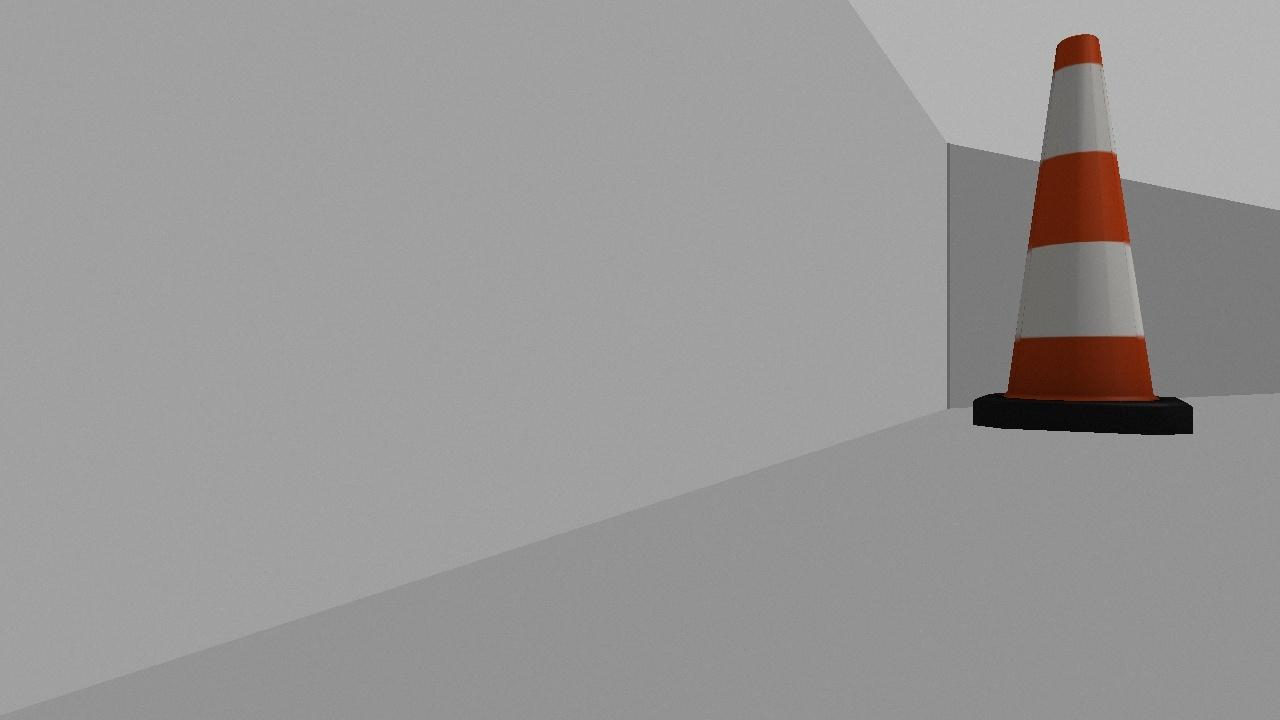cone_barrel: (949, 23, 1220, 454)
